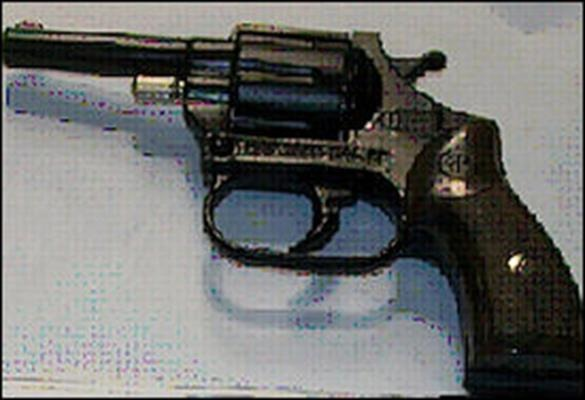gun: (3, 13, 585, 397)
